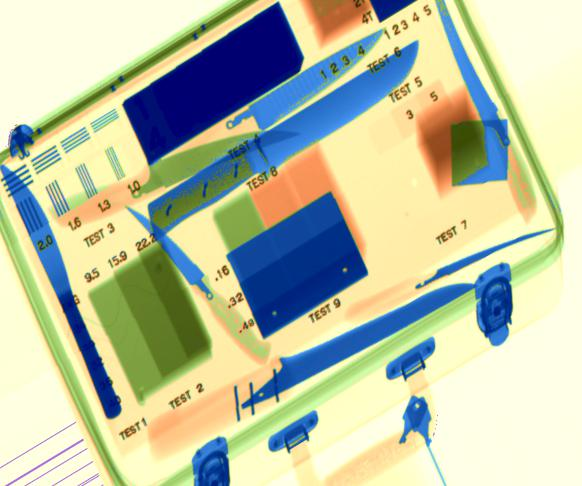Knife: (147, 39, 421, 241), (226, 282, 476, 423), (1, 163, 122, 420), (123, 205, 270, 364), (435, 1, 537, 225), (222, 25, 386, 133), (119, 131, 297, 205), (410, 228, 554, 293)
